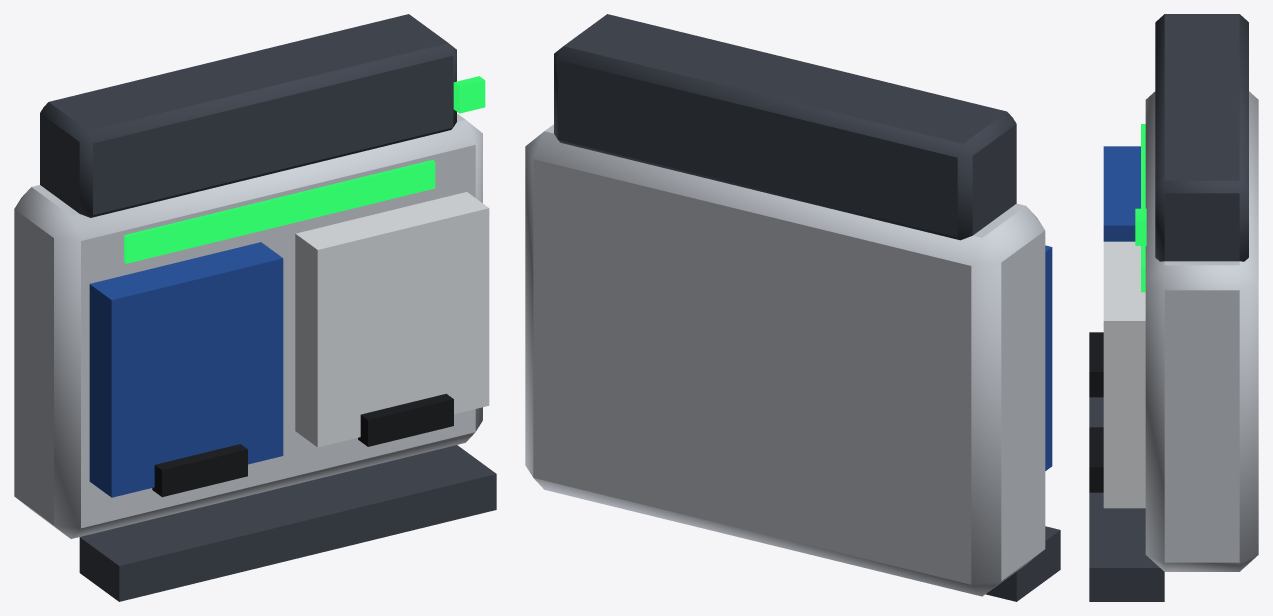
File: medcabinet_glove_and_mask_dispenser.glb
The picture shows the model from 3 angles, left to right: view 1: azimuth 30°, elevation 25°; view 2: azimuth 150°, elevation 25°; view 3: azimuth 270°, elevation 25°; orthographic projection. The views are drawn at different scales.
Parts seen in each view (by area): view 1: medcabinet_glove_and_mask_dispenser; view 2: medcabinet_glove_and_mask_dispenser; view 3: medcabinet_glove_and_mask_dispenser.
Part boxes in pixels (bbox=[...]): medcabinet_glove_and_mask_dispenser: bbox=[14, 14, 496, 601]; medcabinet_glove_and_mask_dispenser: bbox=[525, 14, 1060, 601]; medcabinet_glove_and_mask_dispenser: bbox=[1089, 14, 1258, 601].
Bounding box in the file's own units: 0.5 × 0.49 × 0.18.
